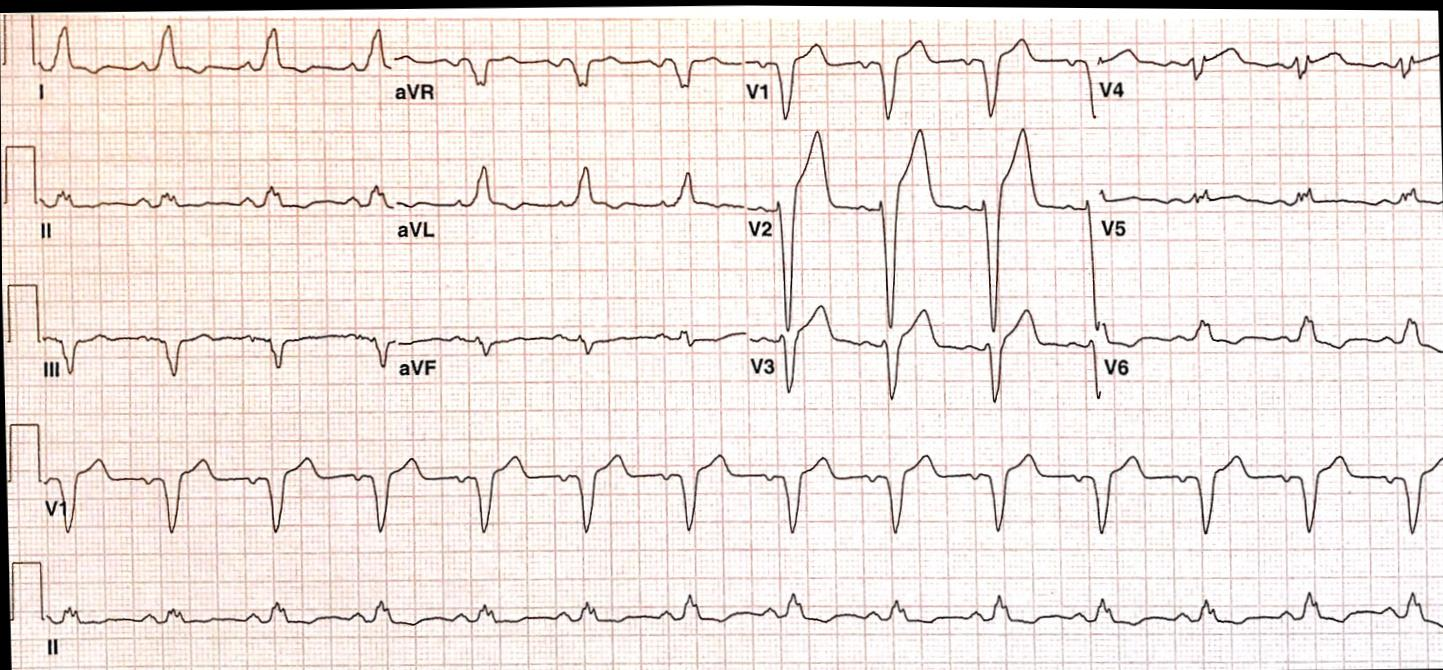Lead_I: (35, 13, 391, 133)
Lead_II: (35, 139, 395, 265)
Lead_III: (36, 279, 396, 406)
Lead_II_ext: (40, 558, 1443, 670)
Lead_V1: (38, 420, 404, 562), (737, 18, 1099, 138)
Lead_V2: (743, 116, 1103, 339), (742, 286, 1104, 415)
Lead_V4: (1095, 9, 1439, 128)
Lead_V5: (1095, 141, 1443, 255)
Lead_V6: (1100, 280, 1443, 404)
Lead_aVF: (395, 281, 746, 399)
Lead_aVL: (389, 132, 748, 266)
Lead_aVR: (390, 11, 740, 144)
